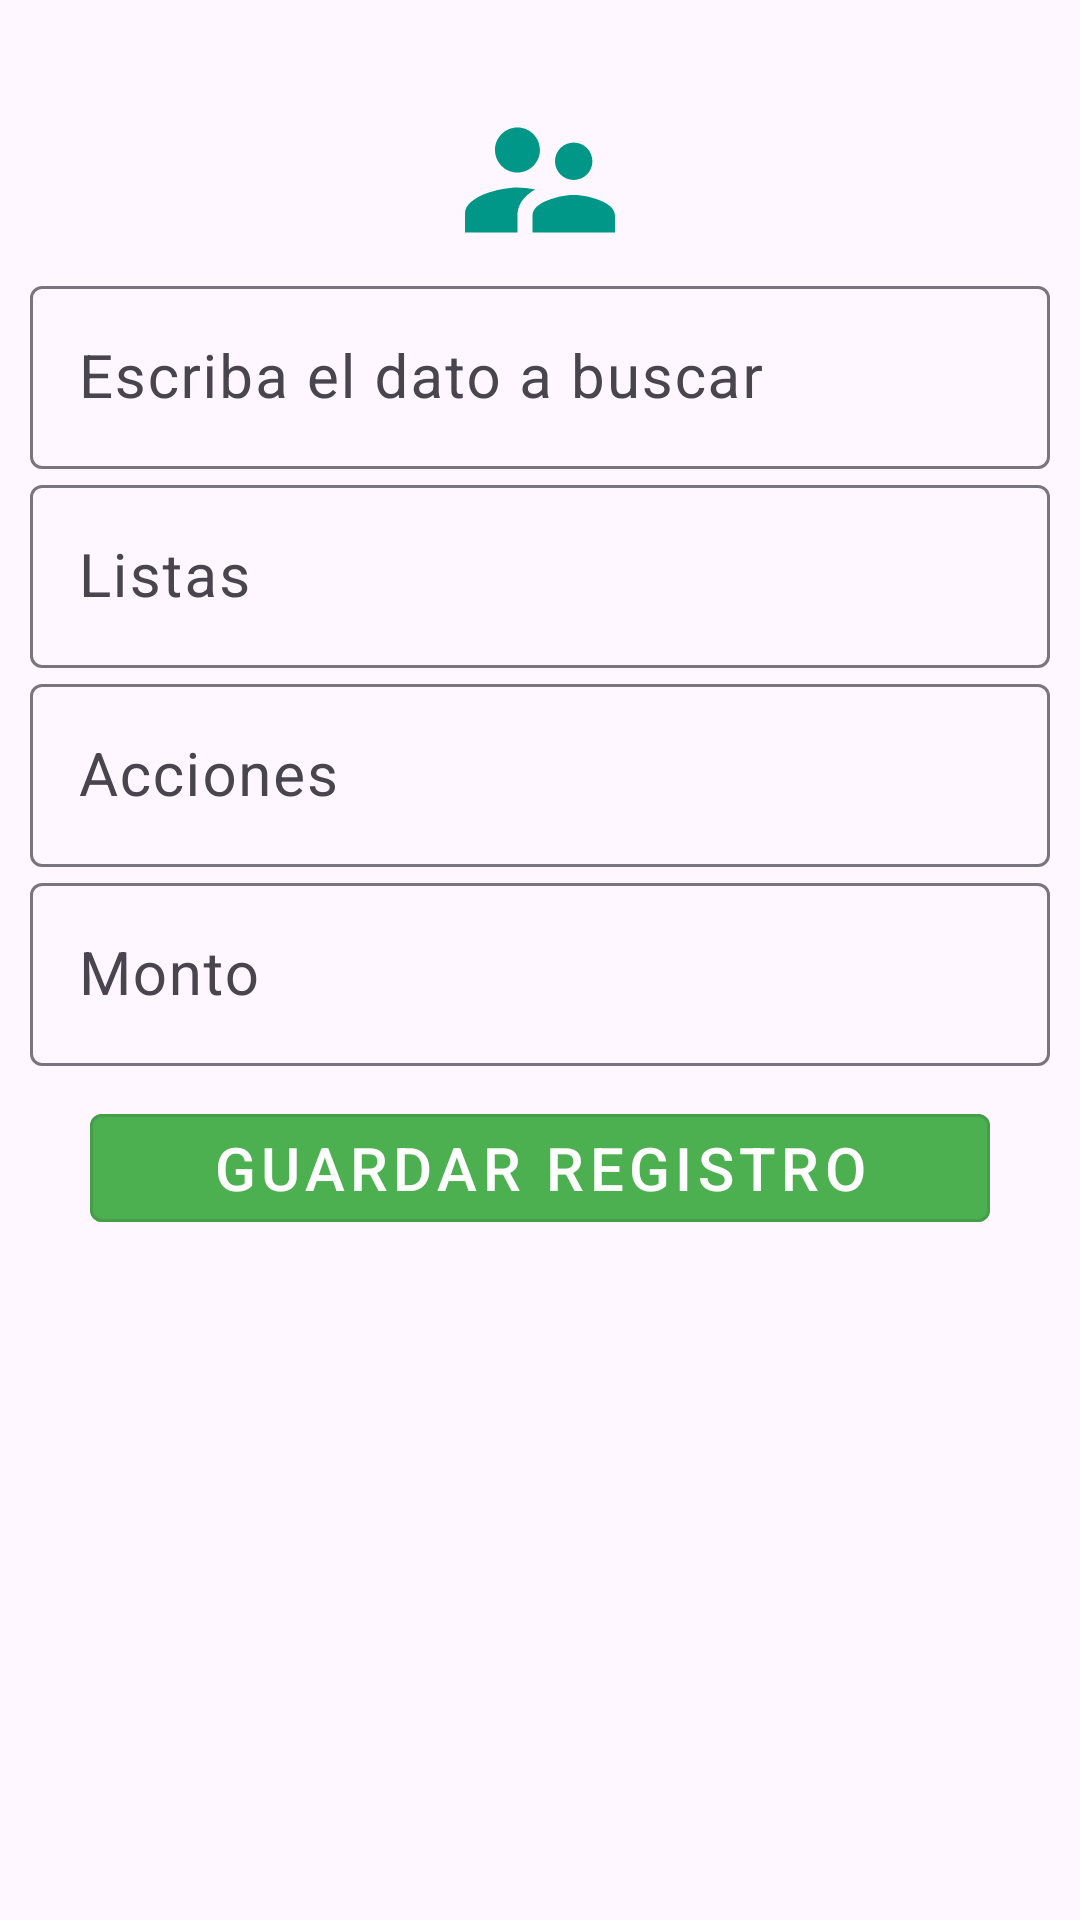

Icons on this 1080 × 1920 Android screen, each with its box as (x1, y1, x2, y2):
users: (465, 127, 615, 233)
